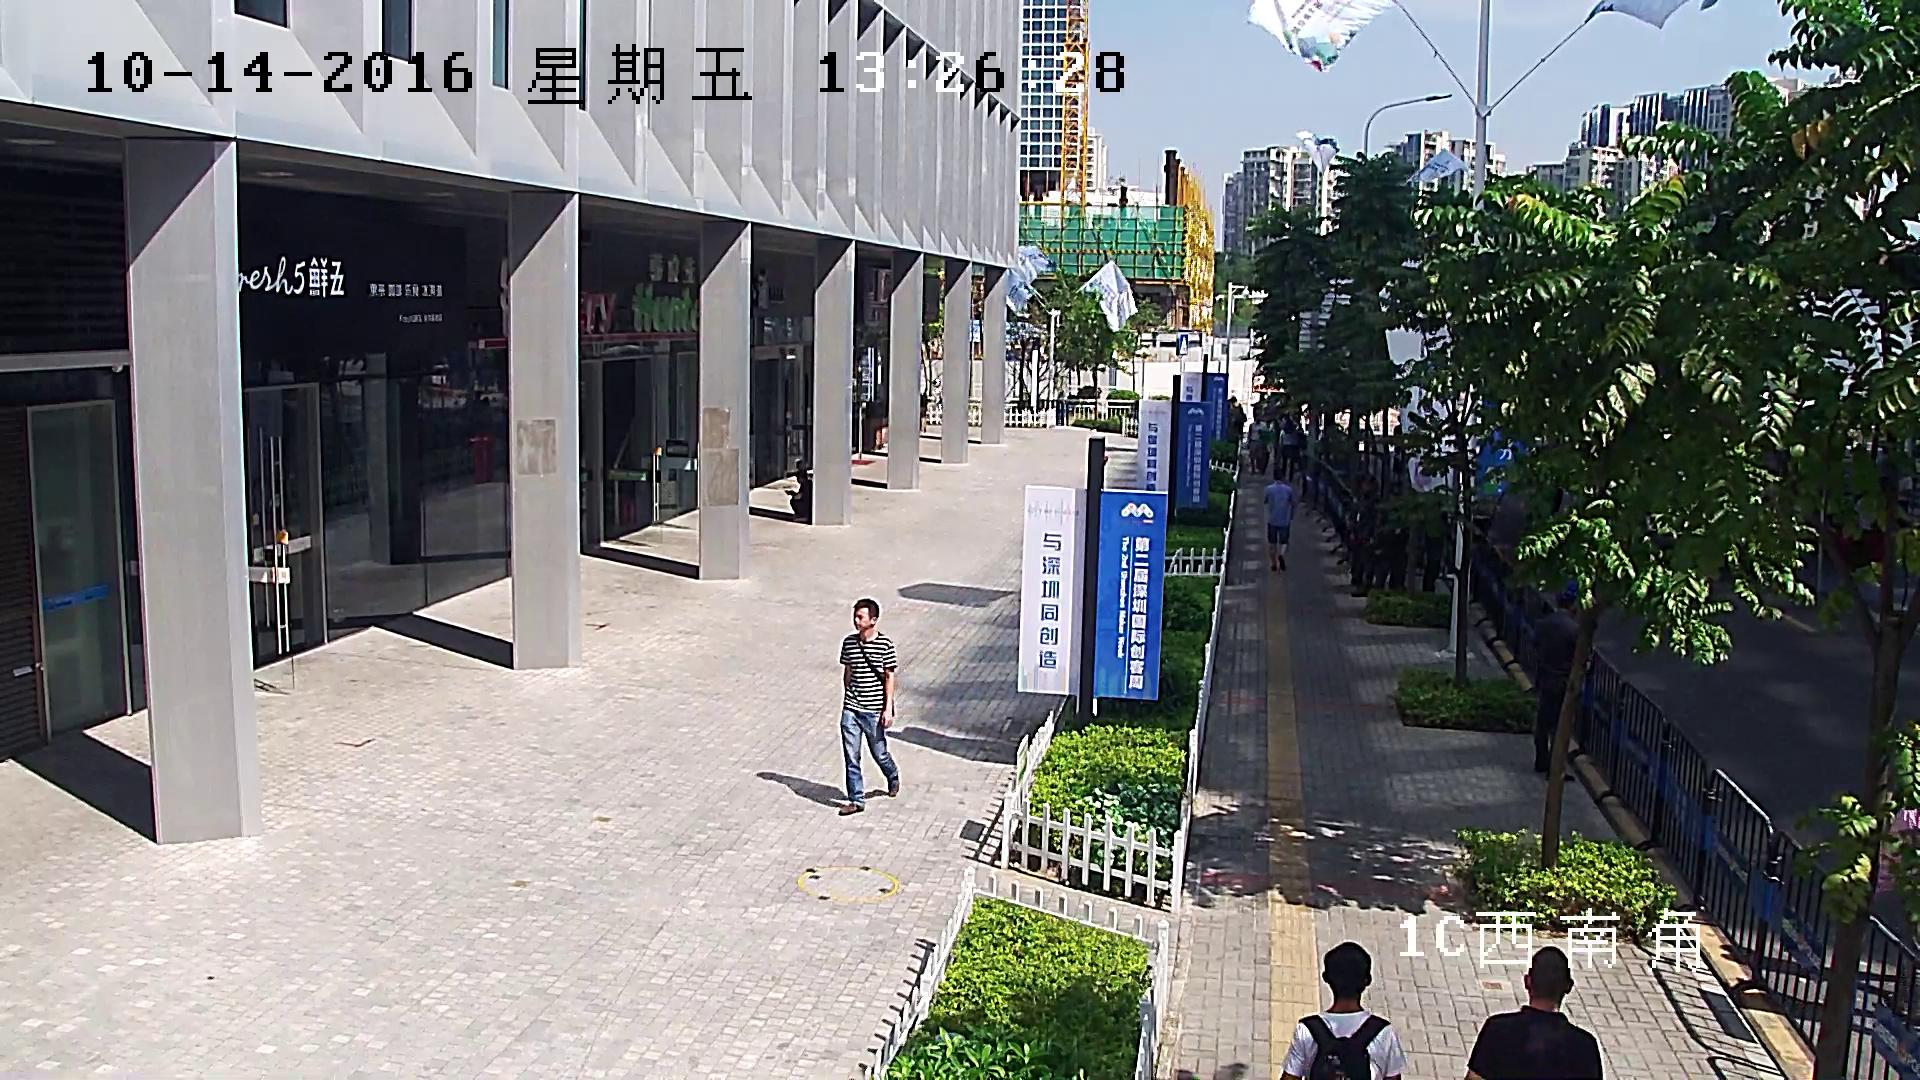person: (1464, 946, 1603, 1080), (1279, 941, 1409, 1080), (839, 598, 899, 814), (1534, 590, 1577, 782), (1263, 468, 1295, 572), (1379, 483, 1408, 588), (1351, 474, 1376, 594), (1246, 405, 1268, 474), (785, 470, 813, 518), (1281, 419, 1302, 480), (1422, 528, 1441, 592)
